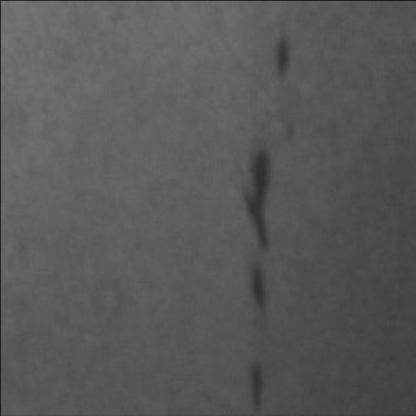inclusion: (233, 141, 277, 254), (264, 25, 294, 83), (240, 252, 269, 312), (241, 354, 269, 410)
